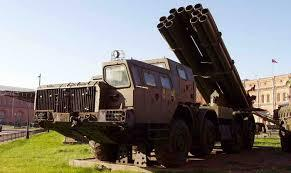MIL_SAM_TEL: (32, 3, 257, 163)
